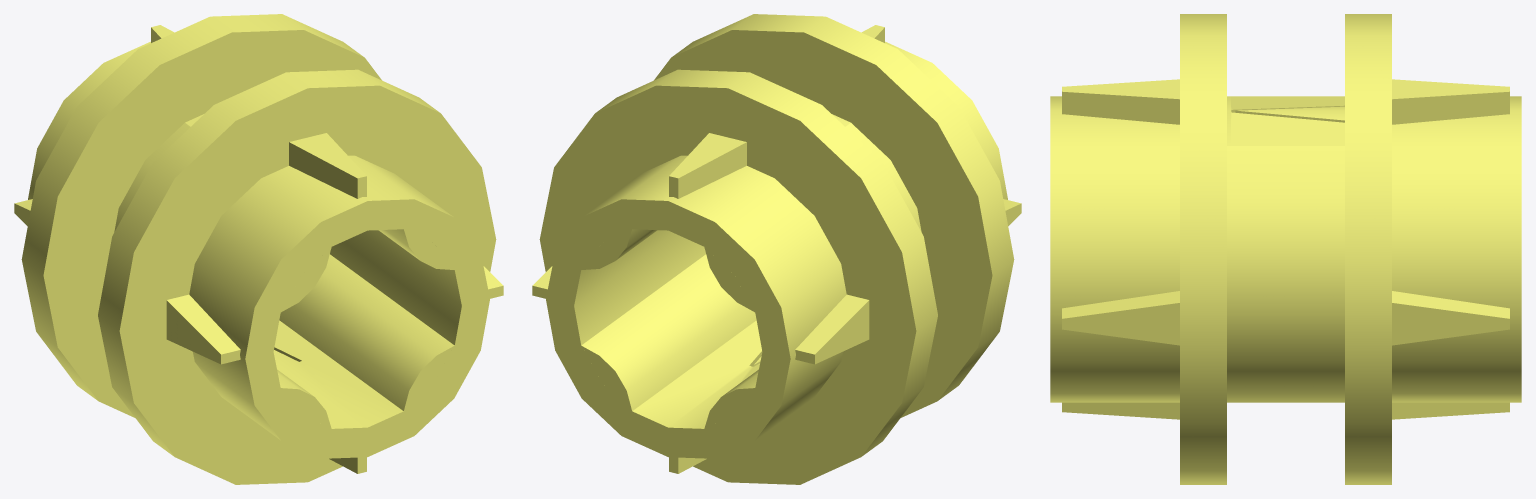
The picture shows the model from 3 angles, left to right: view 1: azimuth 30°, elevation 25°; view 2: azimuth 150°, elevation 25°; view 3: azimuth 270°, elevation 25°; orthographic projection. The views are drawn at different scales.
Visible parts, largest first — view 1: 6539.dat; view 2: 6539.dat; view 3: 6539.dat.
Boxes of the visible parts, x1,y1,x2,y2 form: 6539.dat: [14, 14, 503, 484]; 6539.dat: [532, 14, 1021, 484]; 6539.dat: [1050, 14, 1521, 484].
Bounding box in the file's own units: 0.016 × 0.016 × 0.016.
